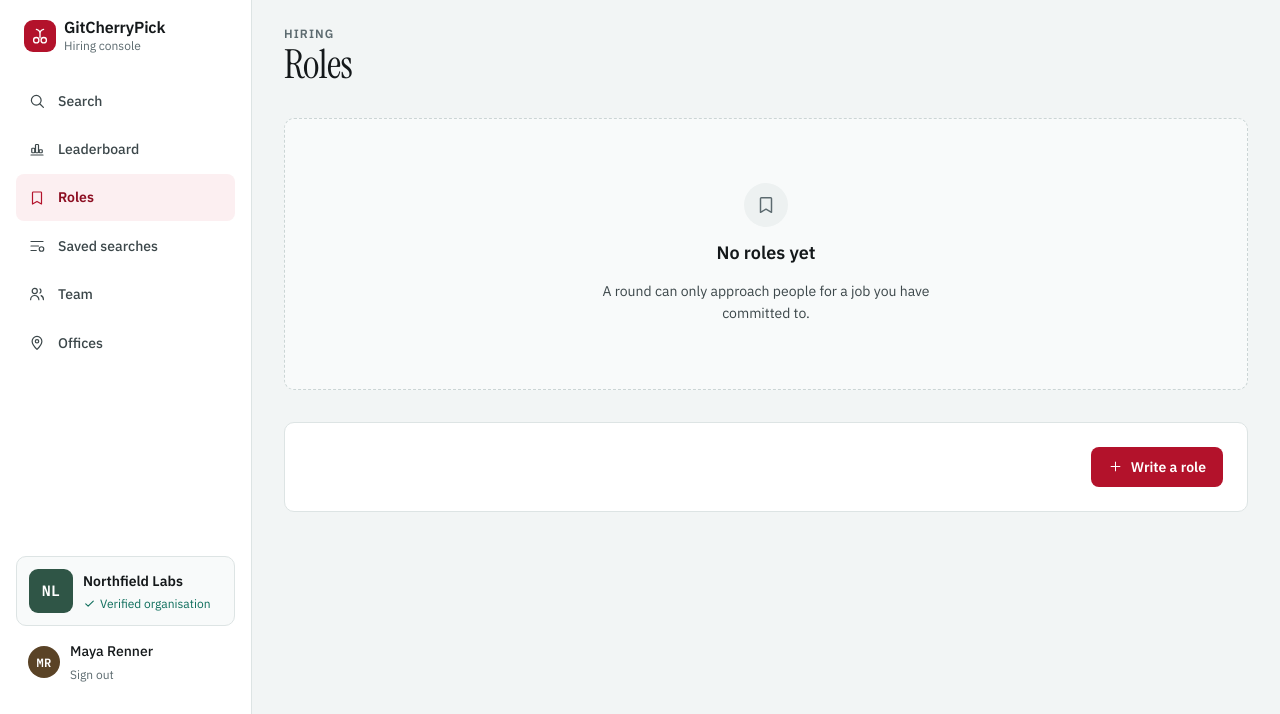
Test: the app renders › disables Onsite for a fully remote organisation, and says why to any seat
What coordinates should you click on to do the following:
click the button "Write a role"
I would click on:
 (1157, 467)
Its box is [1091,447,1223,487].
(page scrolled)
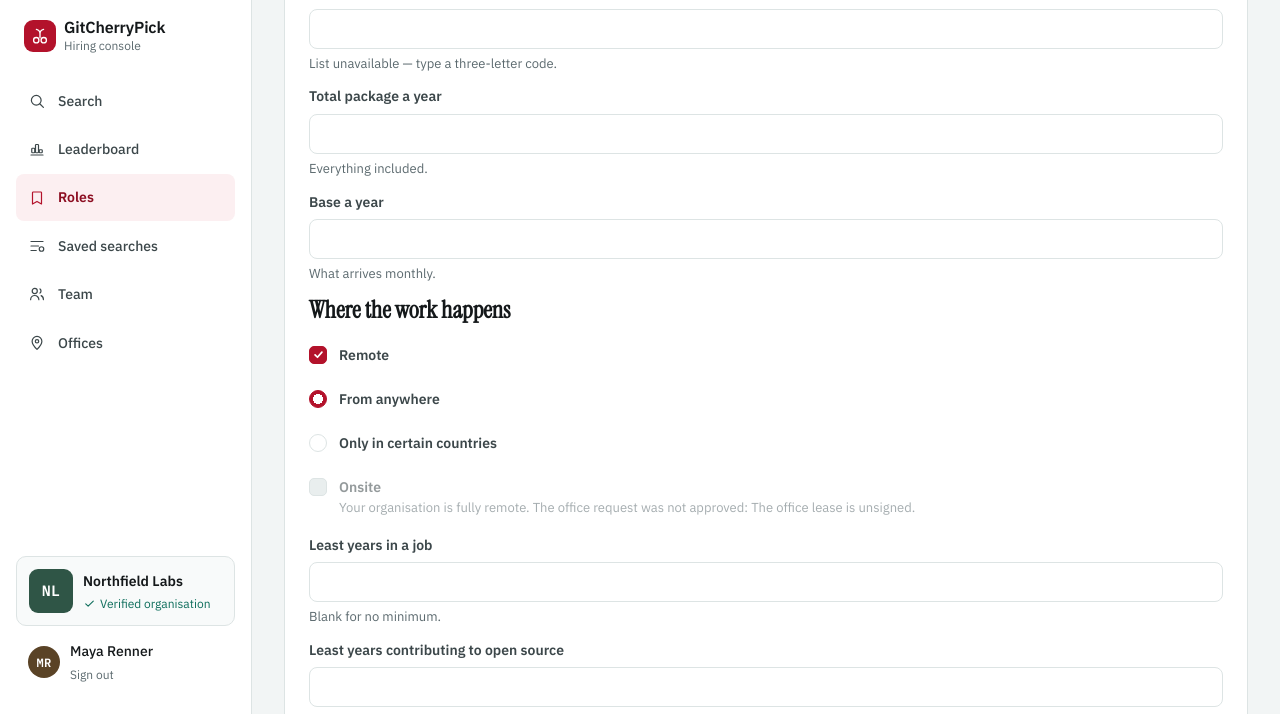
Result: the checkbox labelled "Onsite" is disabled at [309,478,327,496]
Result: the text "The office request was not approved: The office lease is unsigned" is shown at [339,499,915,516]
Result: the checkbox labelled "Remote" is checked at [309,346,327,364]
